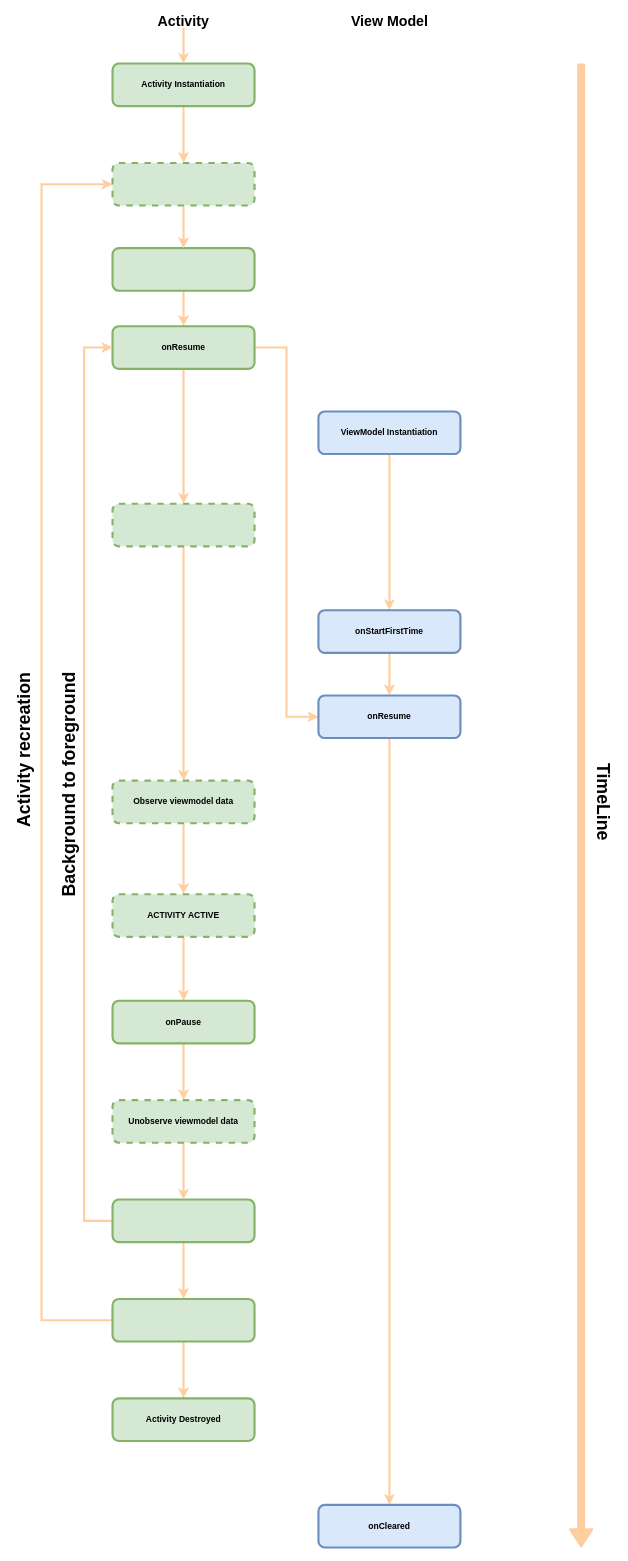
This 628x1561 diagram has some shape labels left out. The shapes that lost their labels are listed below. From the top down, each one's centre as x and y in pixels, then its label:
point 183,184: onCreate
point 183,269: onStart
point 183,524: onInitialized(viewModel)
point 183,1220: onStop
point 183,1320: onDestroy
